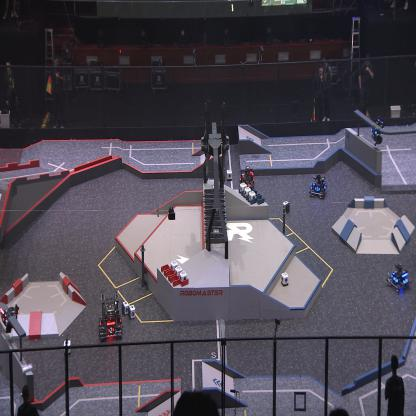car: (97, 290, 124, 341), (388, 262, 410, 294), (308, 173, 328, 199), (238, 164, 254, 190)
